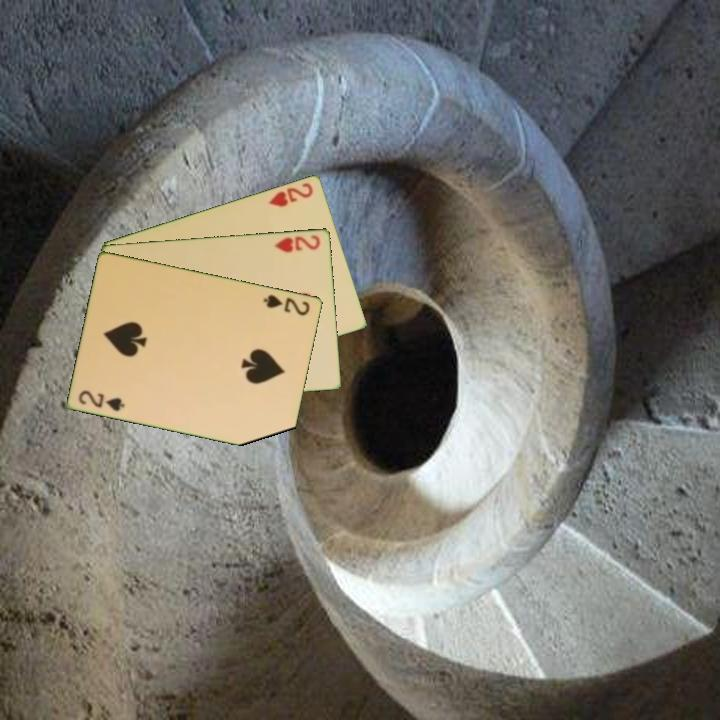2h: (266, 179, 316, 210), (272, 231, 323, 255)
2s: (260, 290, 313, 318), (75, 386, 128, 414)
